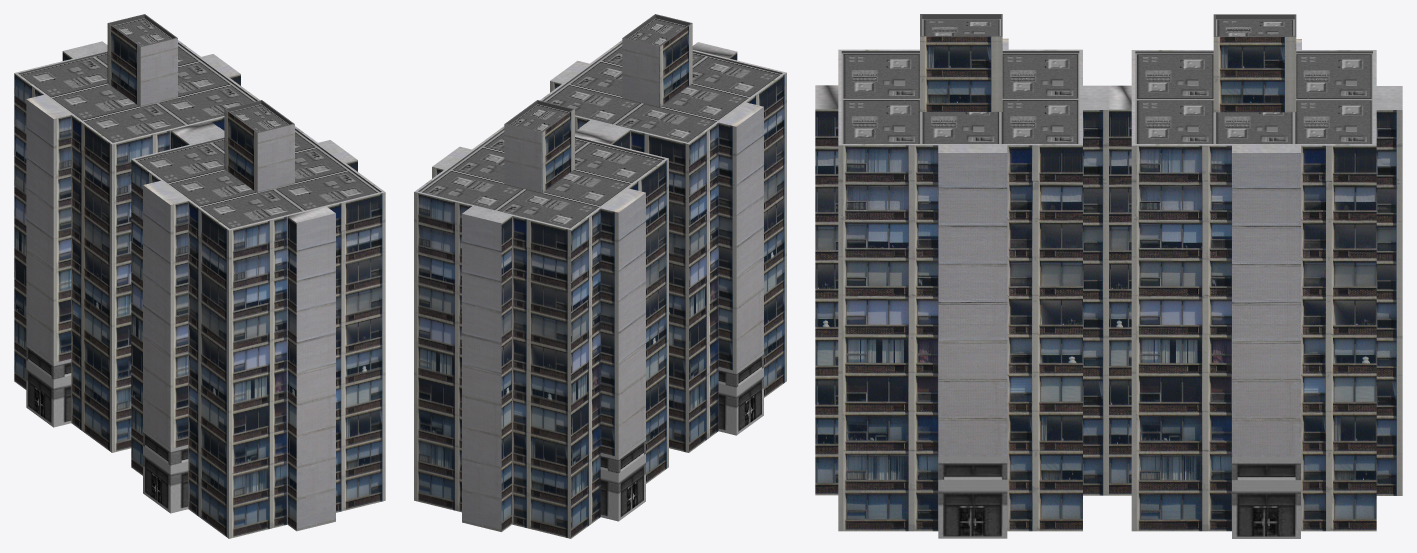
The model's file is hotel2.obj.
3 renders of one model, left to right at view 1: azimuth 30°, elevation 25°; view 2: azimuth 150°, elevation 25°; view 3: azimuth 270°, elevation 25°, orthographic. The views are drawn at different scales.
Visible parts, largest first — view 1: hotel2_EDIFICIOS-PARQUE.001; view 2: hotel2_EDIFICIOS-PARQUE.001; view 3: hotel2_EDIFICIOS-PARQUE.001.
Boxes of the visible parts, x1,y1,x2,y2 form: hotel2_EDIFICIOS-PARQUE.001: (14,14,385,538); hotel2_EDIFICIOS-PARQUE.001: (414,14,786,538); hotel2_EDIFICIOS-PARQUE.001: (815,14,1402,538).
Size of the model in its own units: 64.99 by 122 by 141.
6 materials, 5 textured.
